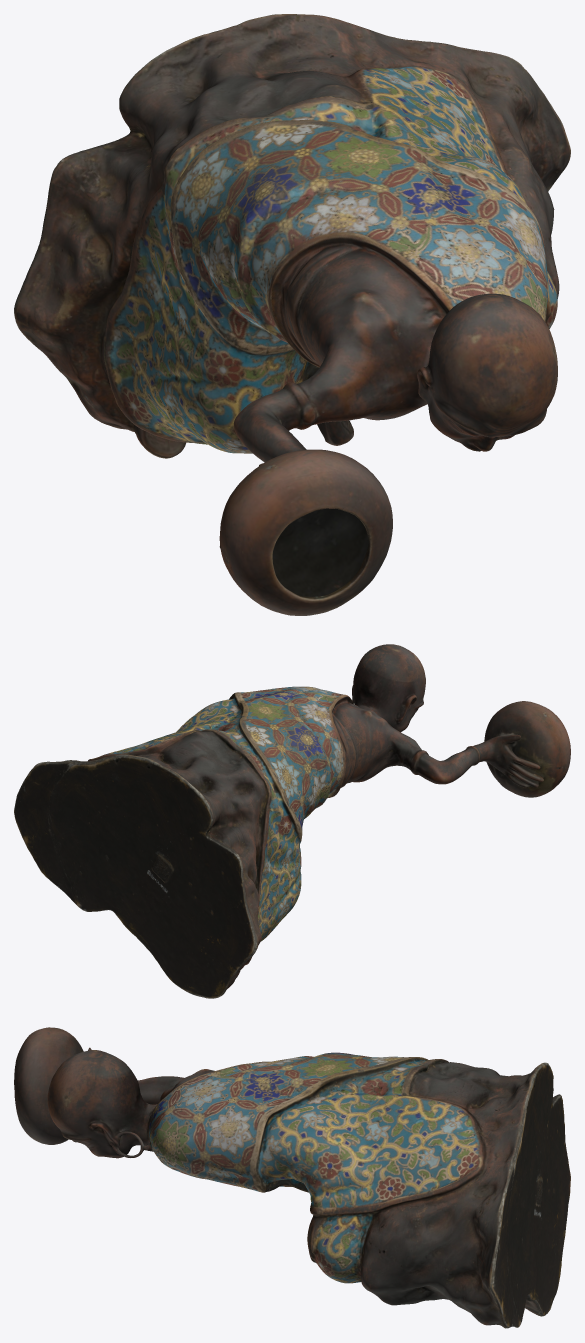
Rendered from arhat-binh.glb.
3 views of the same model, one above another, from view 1: azimuth 30°, elevation 25°; view 2: azimuth 150°, elevation 25°; view 3: azimuth 270°, elevation 25° (orthographic). The views are drawn at different scales.
Size of the model in its own units: 36.49 by 20.61 by 39.52.
Materials: 1 (1 with a texture image).
